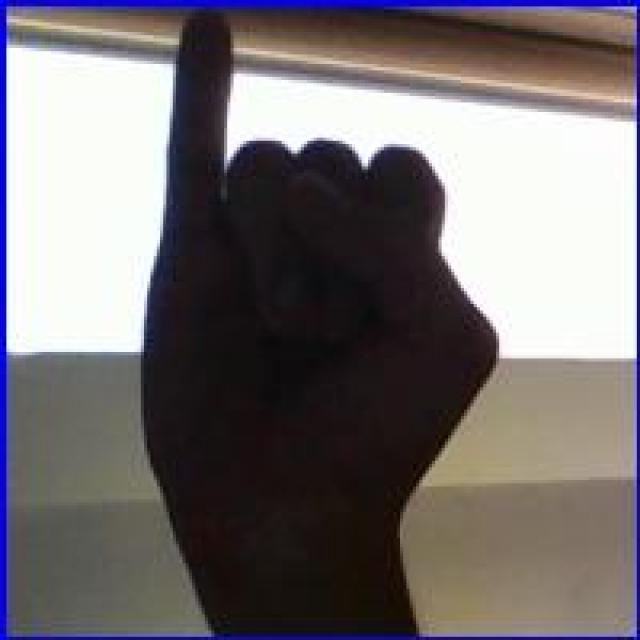I: (139, 7, 504, 580)
